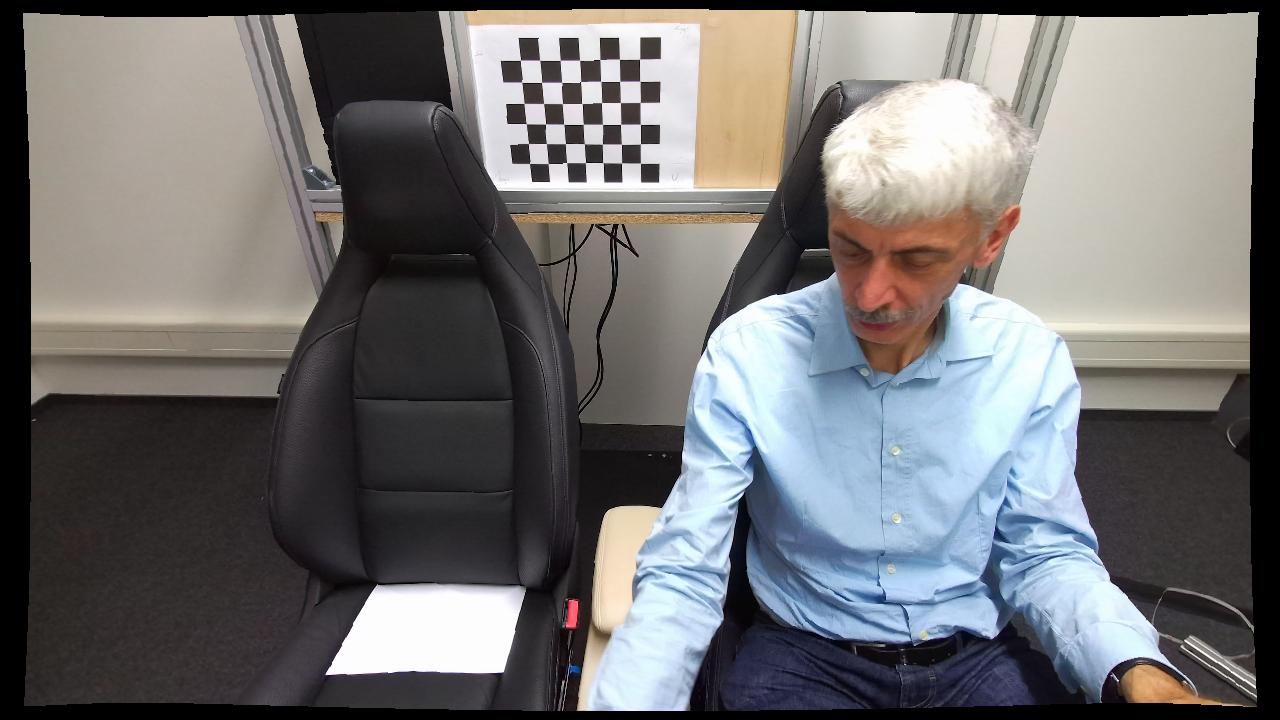Distracted: (584, 72, 1107, 712)
